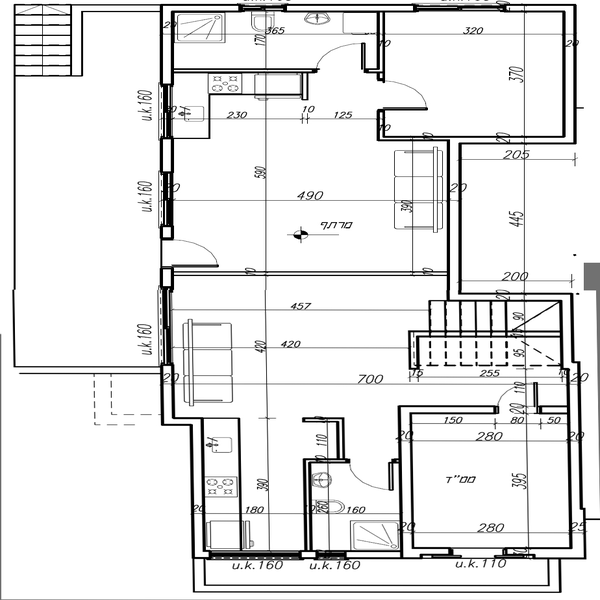door: (347, 446, 399, 504), (376, 75, 437, 124), (153, 234, 223, 270), (312, 33, 371, 74), (494, 379, 542, 425)
room: (162, 4, 462, 278), (160, 261, 582, 426), (184, 407, 420, 573), (374, 4, 591, 154), (393, 400, 583, 561)
wall: (558, 291, 589, 564), (441, 137, 469, 303), (553, 4, 583, 147), (395, 406, 418, 562), (186, 415, 207, 563), (442, 286, 569, 308), (467, 131, 569, 156), (295, 2, 416, 15), (158, 365, 180, 429), (160, 6, 177, 85), (150, 140, 183, 171), (179, 1, 232, 15)
window: (417, 1, 506, 18), (158, 294, 176, 366), (157, 86, 176, 138), (157, 170, 174, 227), (241, 4, 287, 15), (316, 551, 348, 564)
